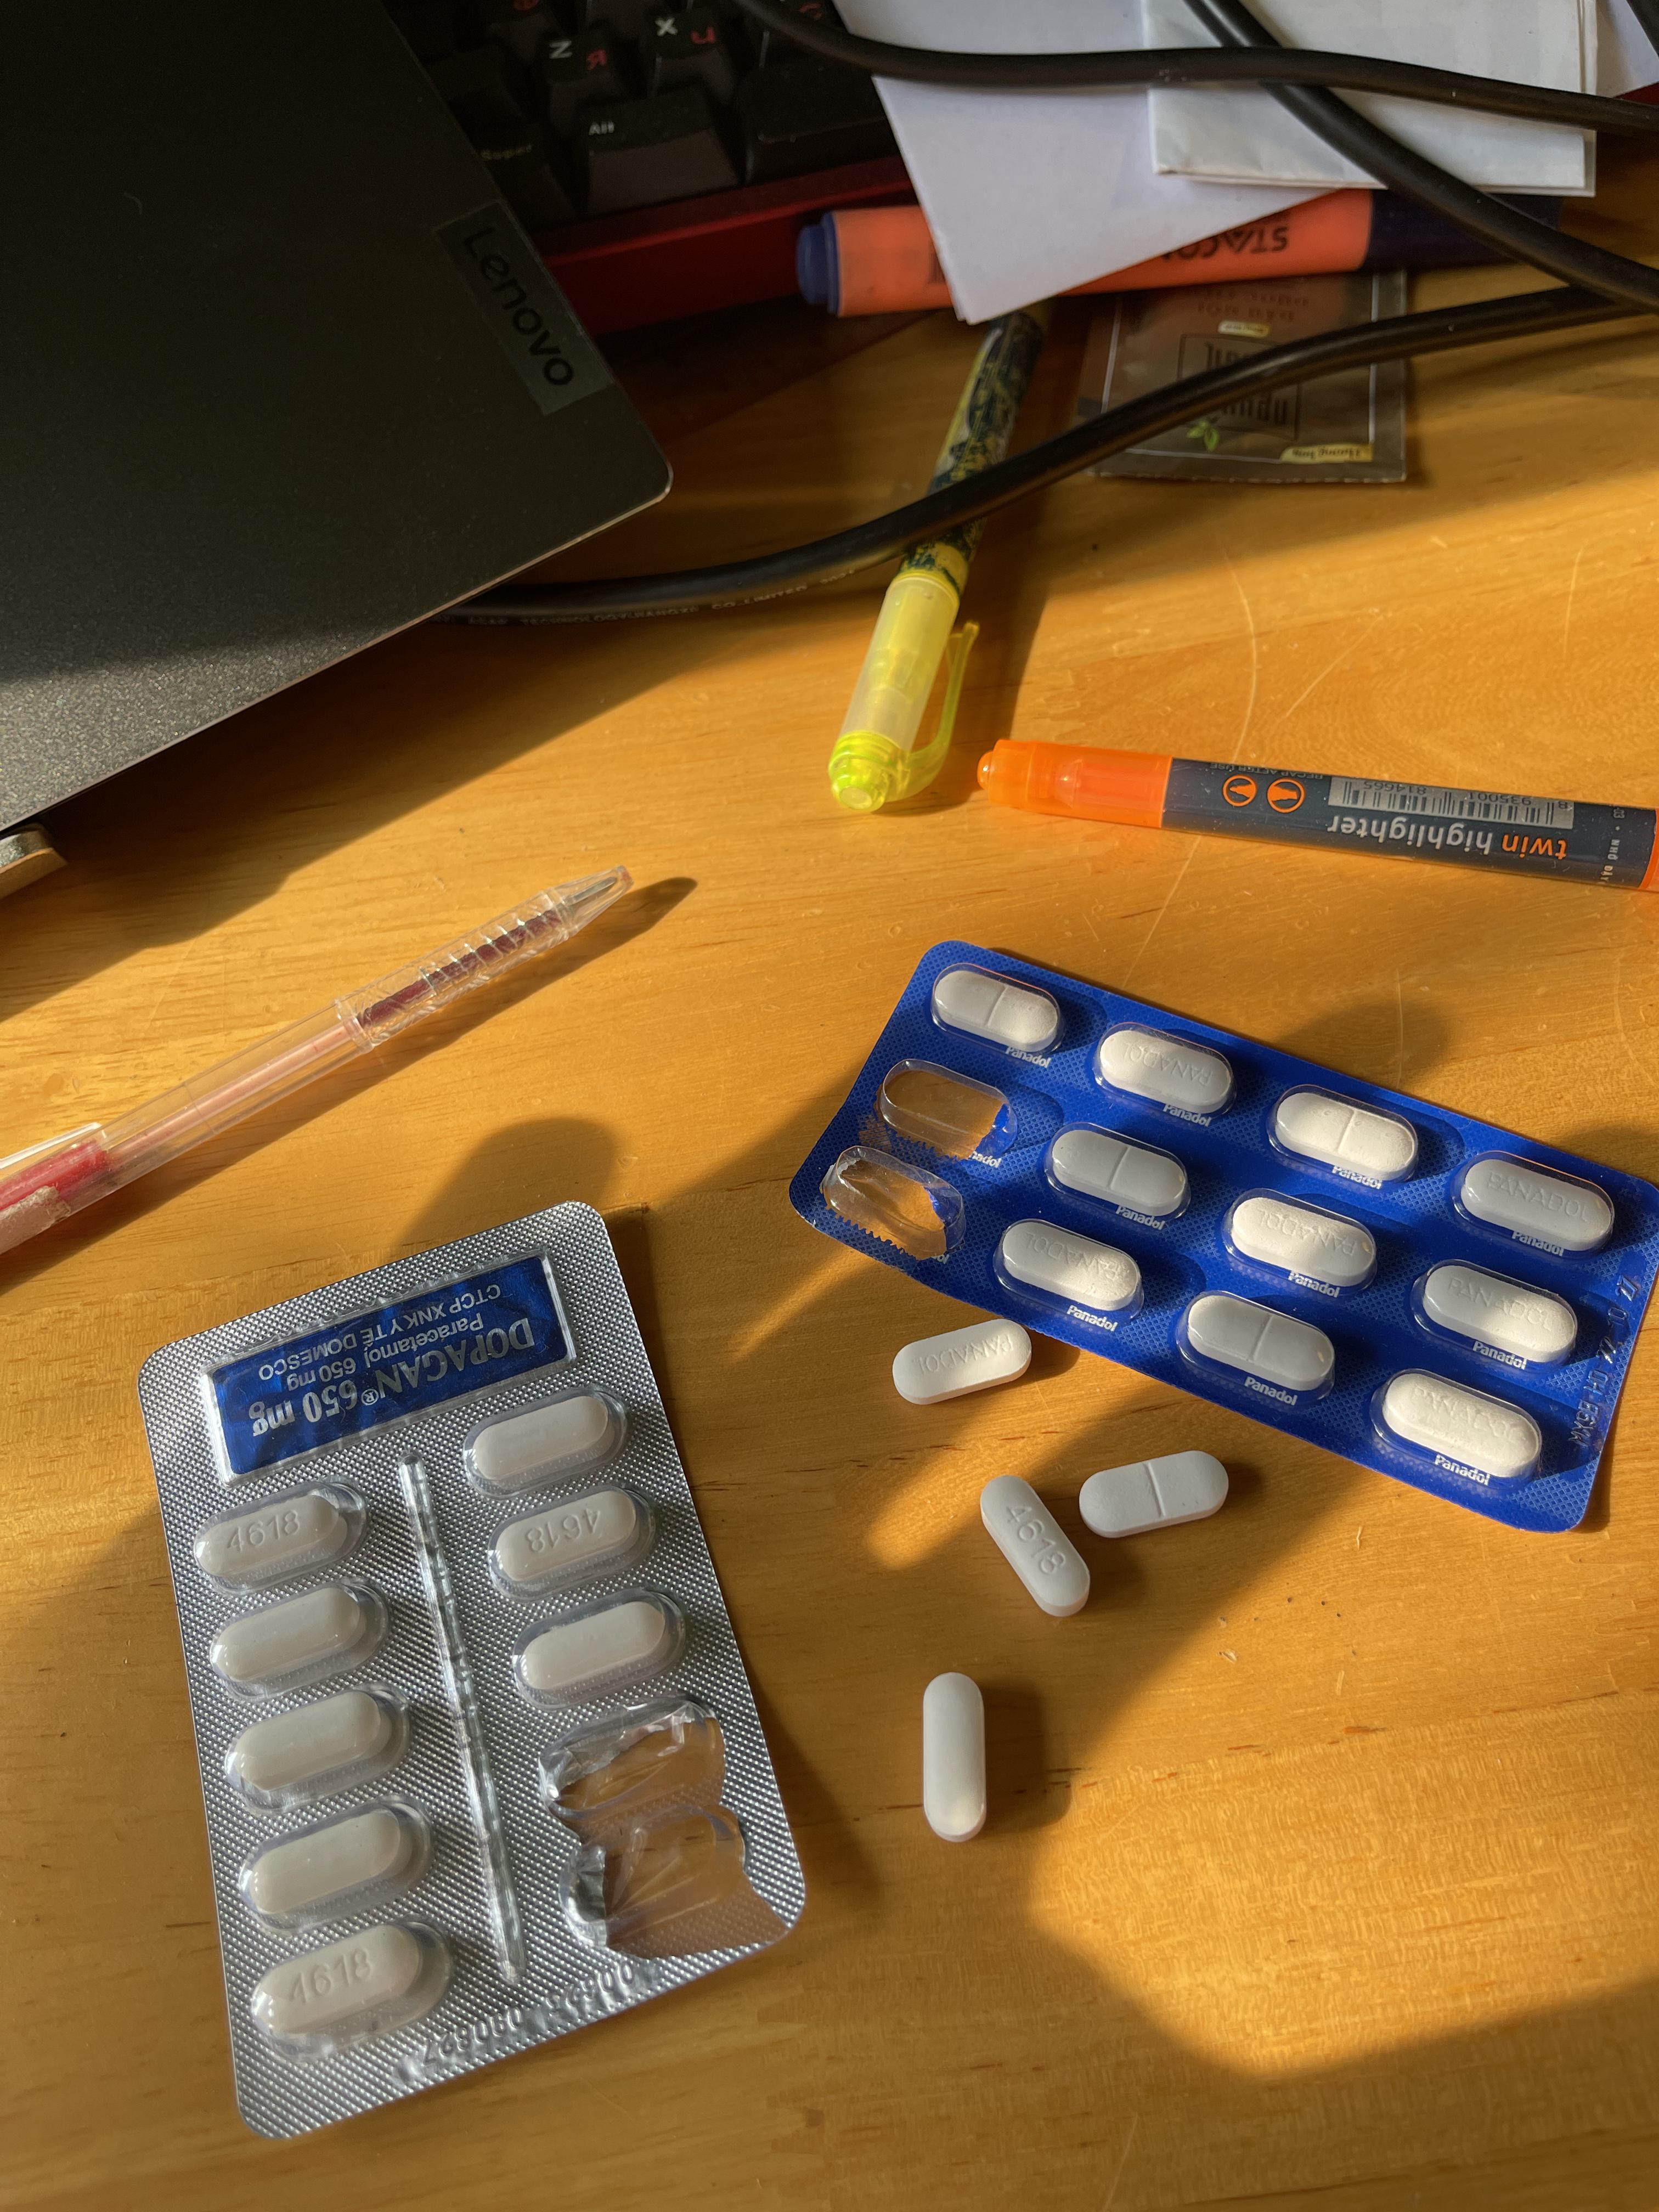Paracetamol_350mg: (1377, 1369, 1547, 1480), (1417, 1263, 1582, 1367), (1459, 1151, 1617, 1254), (1182, 1291, 1338, 1393), (1225, 1193, 1380, 1291), (1272, 1087, 1420, 1186), (1047, 1123, 1190, 1219), (997, 1219, 1140, 1315), (892, 1317, 1035, 1407), (1080, 1449, 1229, 1536), (1096, 1024, 1232, 1118), (934, 968, 1063, 1059)
Paracetamol_500mg: (204, 1571, 385, 1693), (223, 1684, 406, 1804), (242, 1801, 422, 1923), (253, 1923, 429, 2040), (490, 1484, 653, 1601), (514, 1594, 680, 1703), (193, 1482, 366, 1585), (465, 1390, 620, 1496), (978, 1477, 1091, 1613), (920, 1672, 988, 1839)
